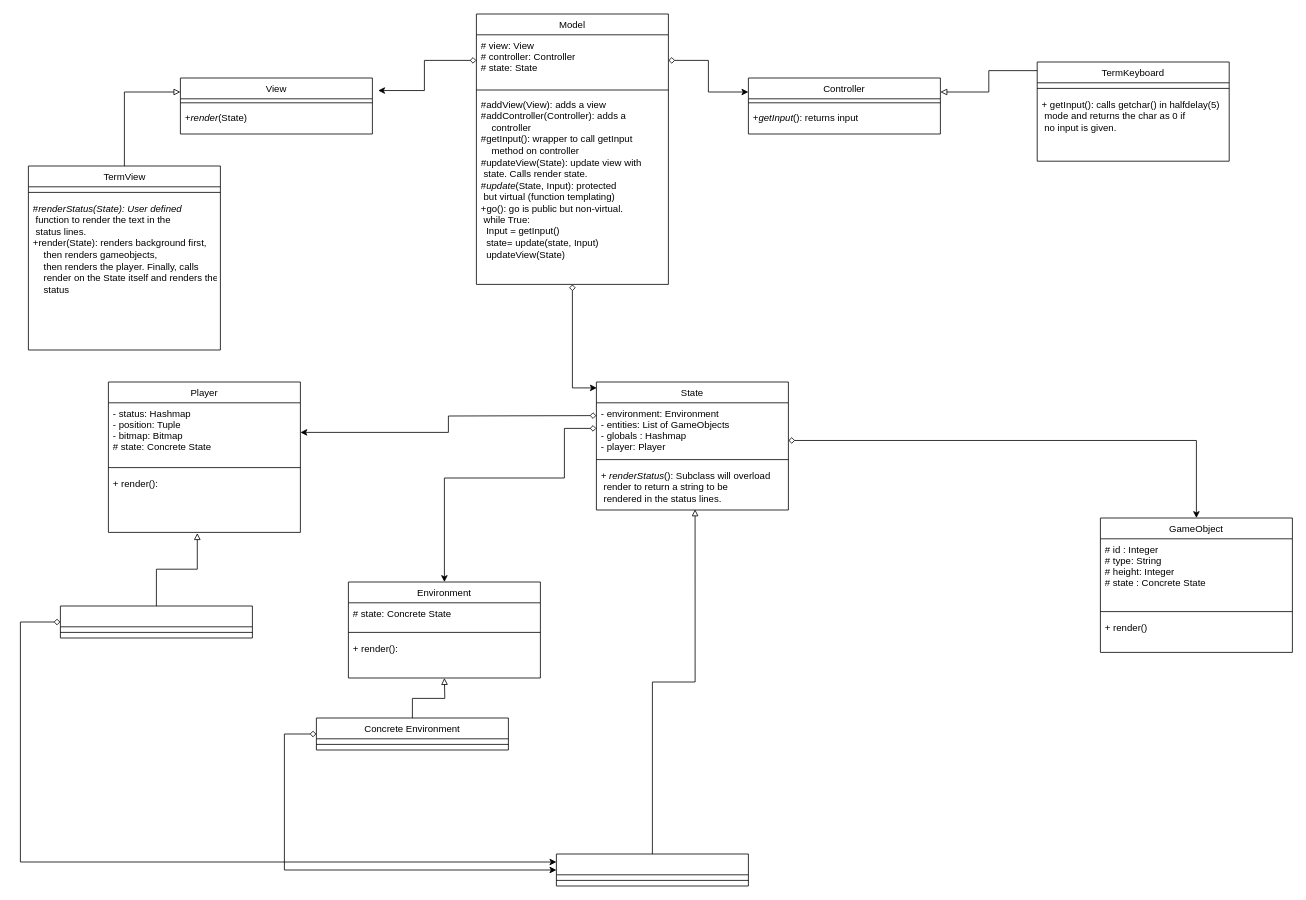
This 1306x900 diagram has some shape labels left out. The shapes that lost their labels are listed below. From the top down, each one's centre as x and y in pixels, then its label:
At pixel 156 621: "Concrete Player".
At pixel 652 869: "Concrete State".
